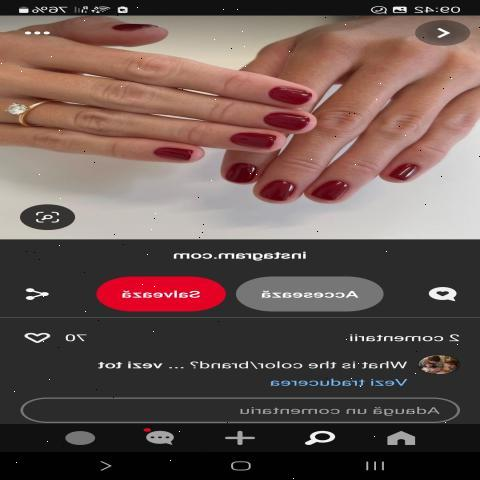Hands: (0, 4, 322, 200), (213, 14, 480, 211)
